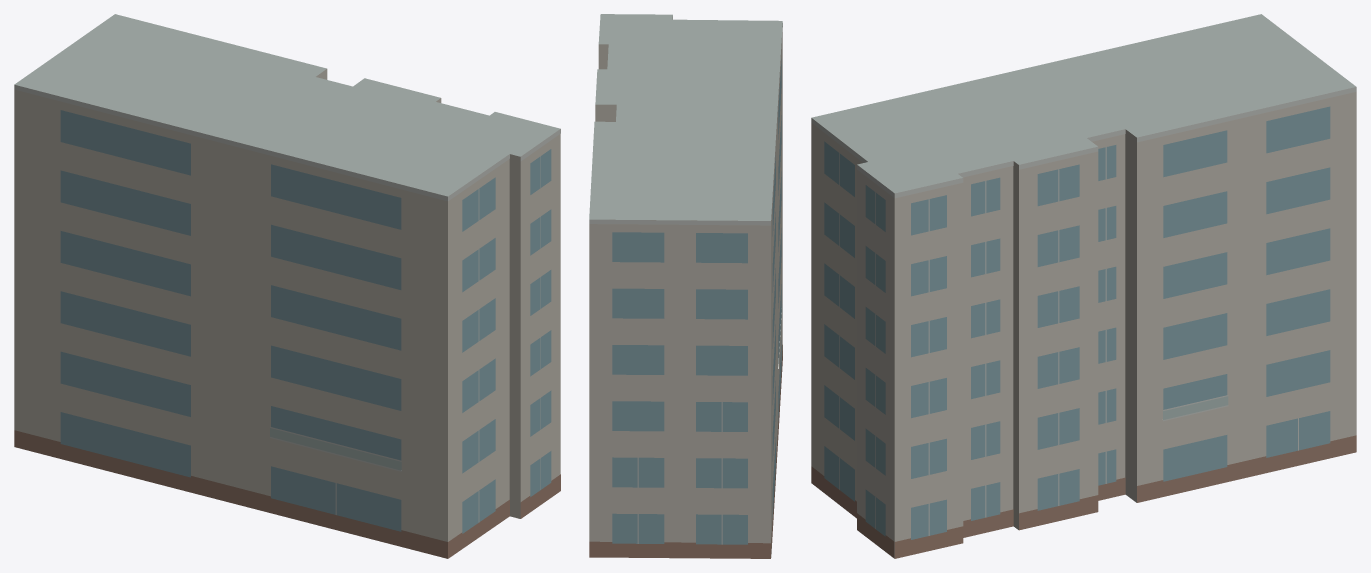
Rendered from survey-upis-32528436.glb.
3 renders of one model, left to right at view 1: azimuth 30°, elevation 25°; view 2: azimuth 150°, elevation 25°; view 3: azimuth 270°, elevation 25°, orthographic. The views are drawn at different scales.
Visible parts, largest first — view 1: survey-upis-32528436.tmp; view 2: survey-upis-32528436.tmp; view 3: survey-upis-32528436.tmp.
Part boxes in pixels (left/top/right/bottom): survey-upis-32528436.tmp: left=14, top=14, right=560, bottom=558; survey-upis-32528436.tmp: left=589, top=14, right=782, bottom=558; survey-upis-32528436.tmp: left=811, top=14, right=1356, bottom=558.
Bounding box in the file's own units: 19.29 × 18.3 × 24.76.
